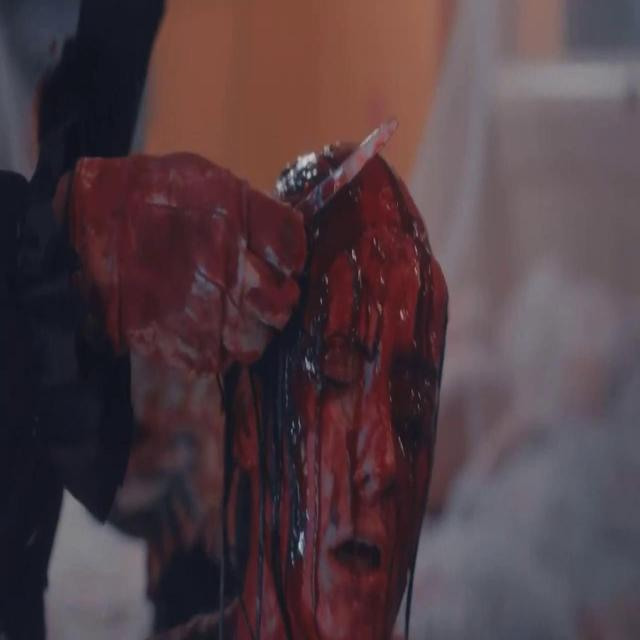flood: (337, 185, 450, 640), (255, 187, 319, 640)
